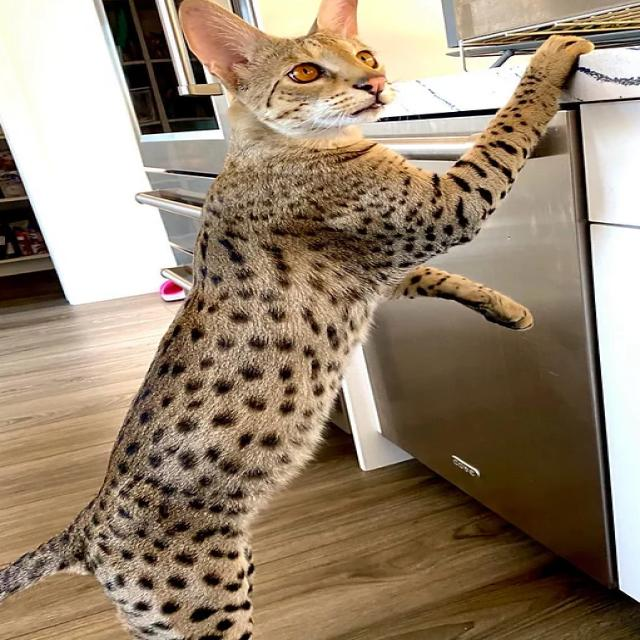Savannah: (0, 0, 601, 640)
